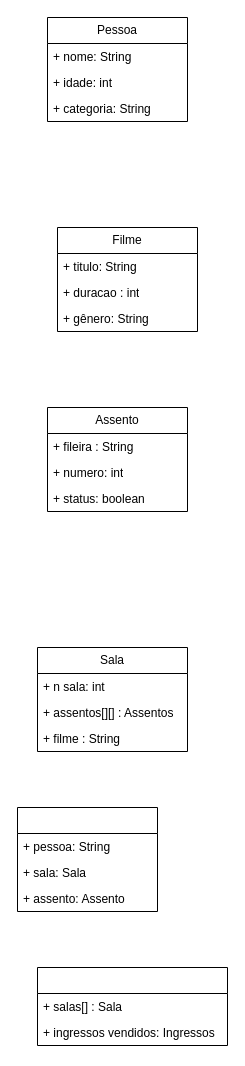
Image size: 245x1066. Some labels were removed from this diagram. Here are the shapes that lost their labels. From the top down, the box of each, then its label:
(16, 806, 158, 912): Ingresso
(36, 966, 228, 1046): Cinema
